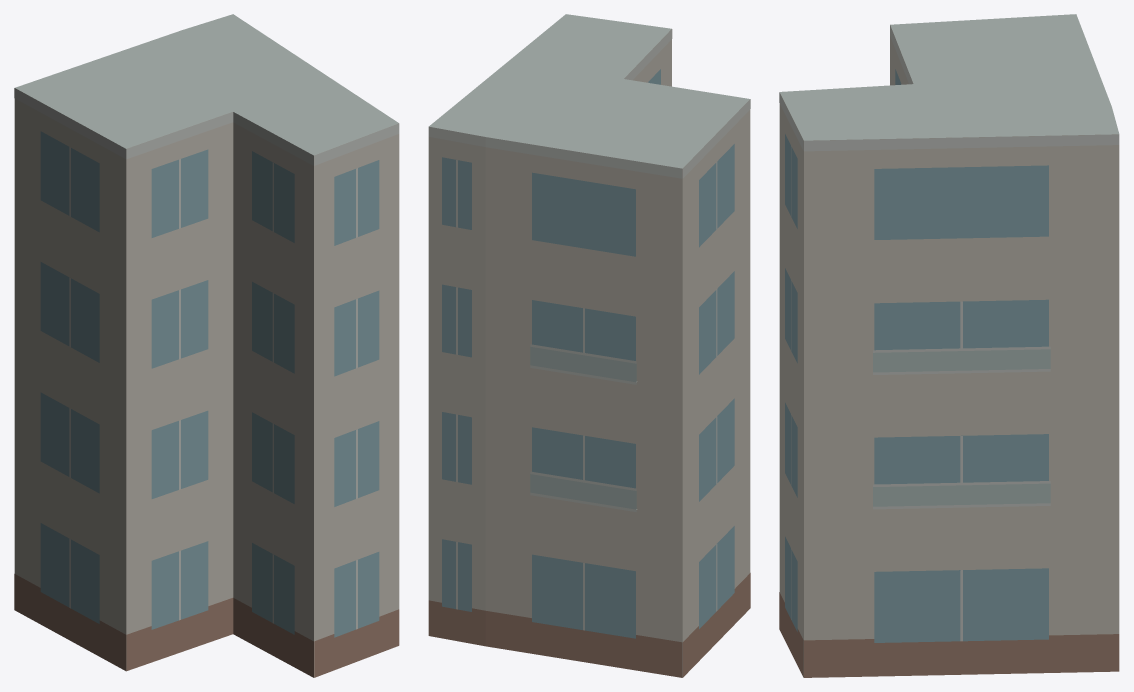
Rendered from survey-upis-32469525.glb.
3 renders of one model, left to right at view 1: azimuth 30°, elevation 25°; view 2: azimuth 150°, elevation 25°; view 3: azimuth 270°, elevation 25°, orthographic. The views are drawn at different scales.
Visible parts, largest first — view 1: survey-upis-32469525.tmp; view 2: survey-upis-32469525.tmp; view 3: survey-upis-32469525.tmp.
Boxes of the visible parts, box(x1,y1,x2,y2) form: survey-upis-32469525.tmp: box(14, 14, 399, 677); survey-upis-32469525.tmp: box(428, 14, 750, 677); survey-upis-32469525.tmp: box(779, 14, 1119, 677).
Bounding box in the file's own units: 6.18 × 12.2 × 7.01.
